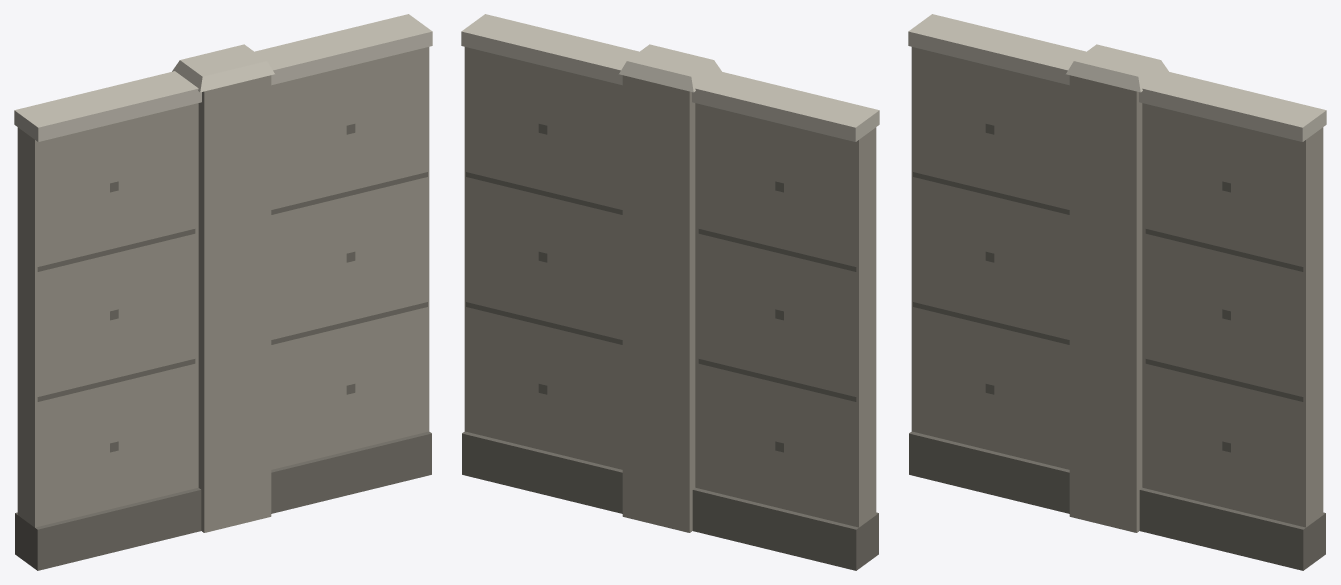
Rendered from wall_concrete.glb.
3 renders of one model, left to right at view 1: azimuth 30°, elevation 25°; view 2: azimuth 150°, elevation 25°; view 3: azimuth 330°, elevation 25°, orthographic.
Visible parts, largest first — view 1: wall_concrete__mesh; view 2: wall_concrete__mesh; view 3: wall_concrete__mesh.
Part boxes in pixels (box(x1,y1,x2,y2)): wall_concrete__mesh: box(14, 14, 432, 570); wall_concrete__mesh: box(461, 14, 879, 570); wall_concrete__mesh: box(908, 14, 1326, 570).
Size of the model in its own units: 2 by 2.2 by 0.25.
Materials: 1 (1 with a texture image).
